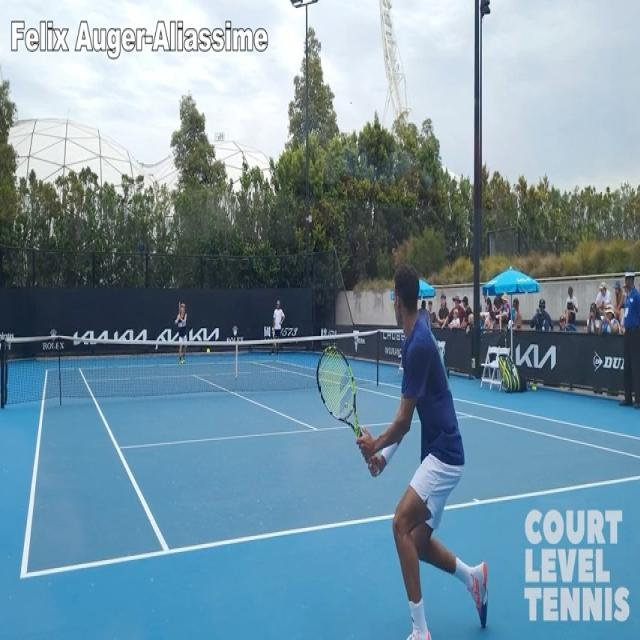backhand-ready: (309, 252, 491, 640)
